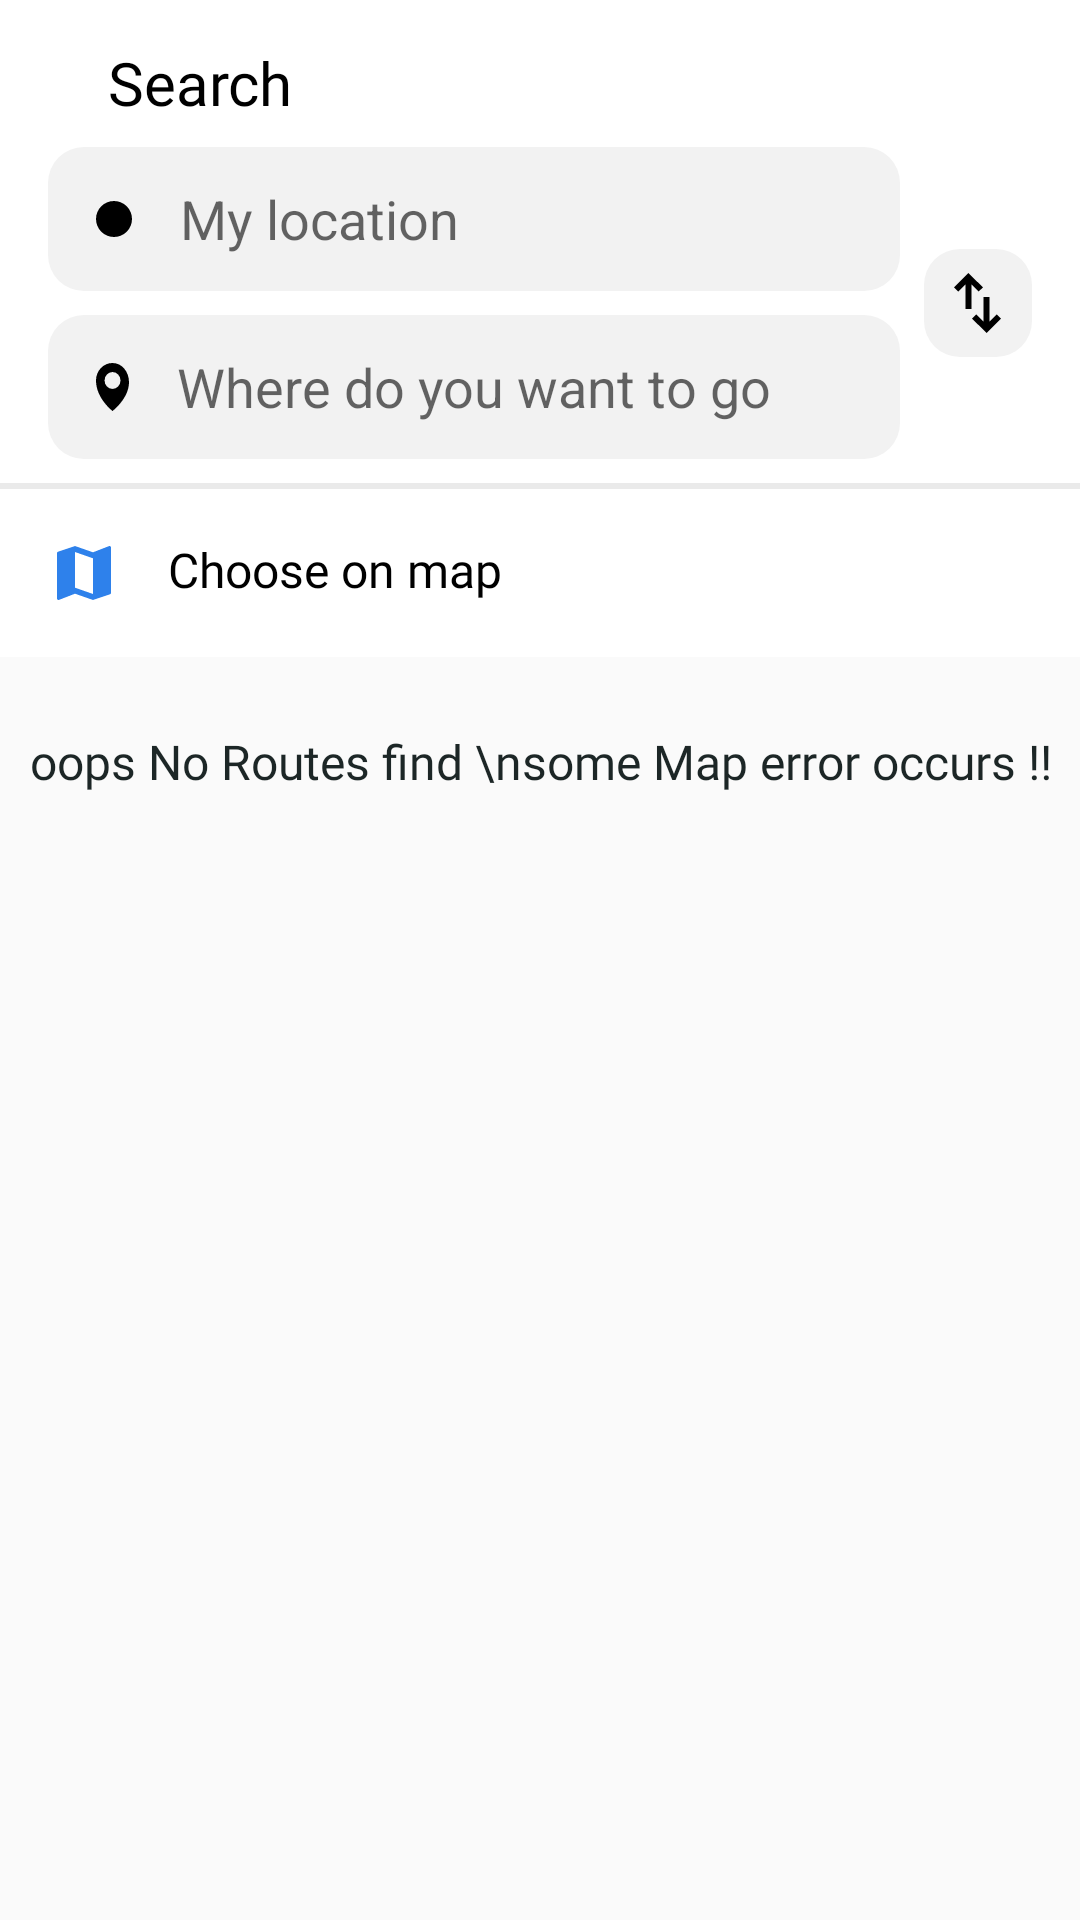

Icons on this 1080x1920 Android screen, each with its box as (x1, y1, x2, y2):
swap: (954, 273, 1001, 333)
